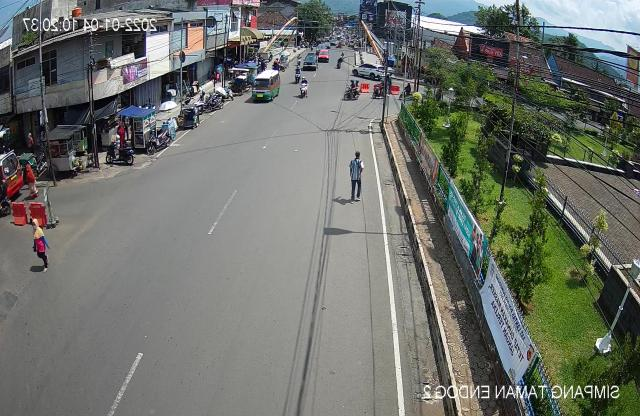Mobil: (246, 68, 281, 113)
Motor: (103, 137, 135, 172), (144, 124, 174, 160), (342, 78, 362, 104), (298, 76, 309, 103)
